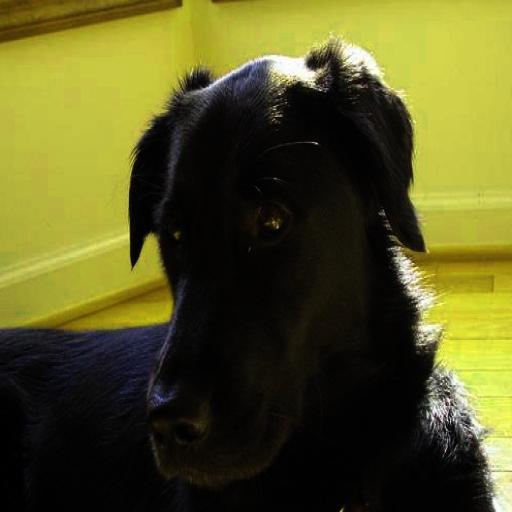dog_face: (131, 60, 418, 463)
